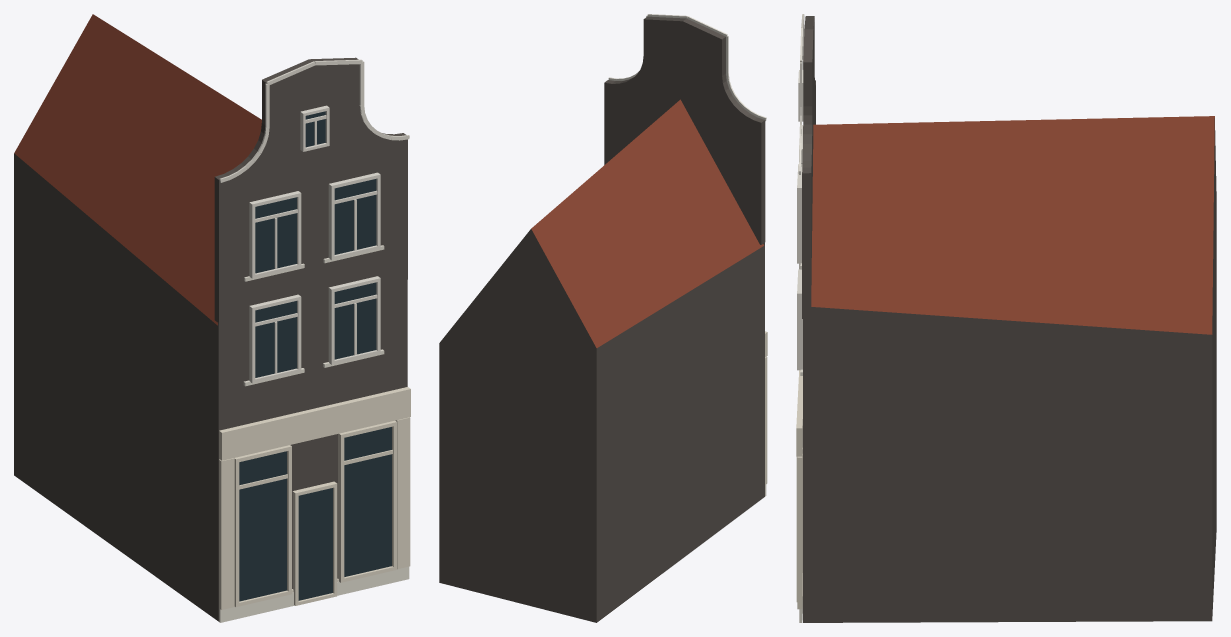
The picture shows the model from 3 angles, left to right: view 1: azimuth 30°, elevation 25°; view 2: azimuth 150°, elevation 25°; view 3: azimuth 270°, elevation 25°; orthographic projection. The views are drawn at different scales.
Parts seen in each view (by area): view 1: spec-0363100012176174; view 2: spec-0363100012176174; view 3: spec-0363100012176174.
Part boxes in pixels (x1,y1,x2,y2): spec-0363100012176174: (14,14,410,622); spec-0363100012176174: (439,14,767,622); spec-0363100012176174: (796,14,1216,622).
Size of the model in its own units: 4.42 by 11.96 by 8.3.
